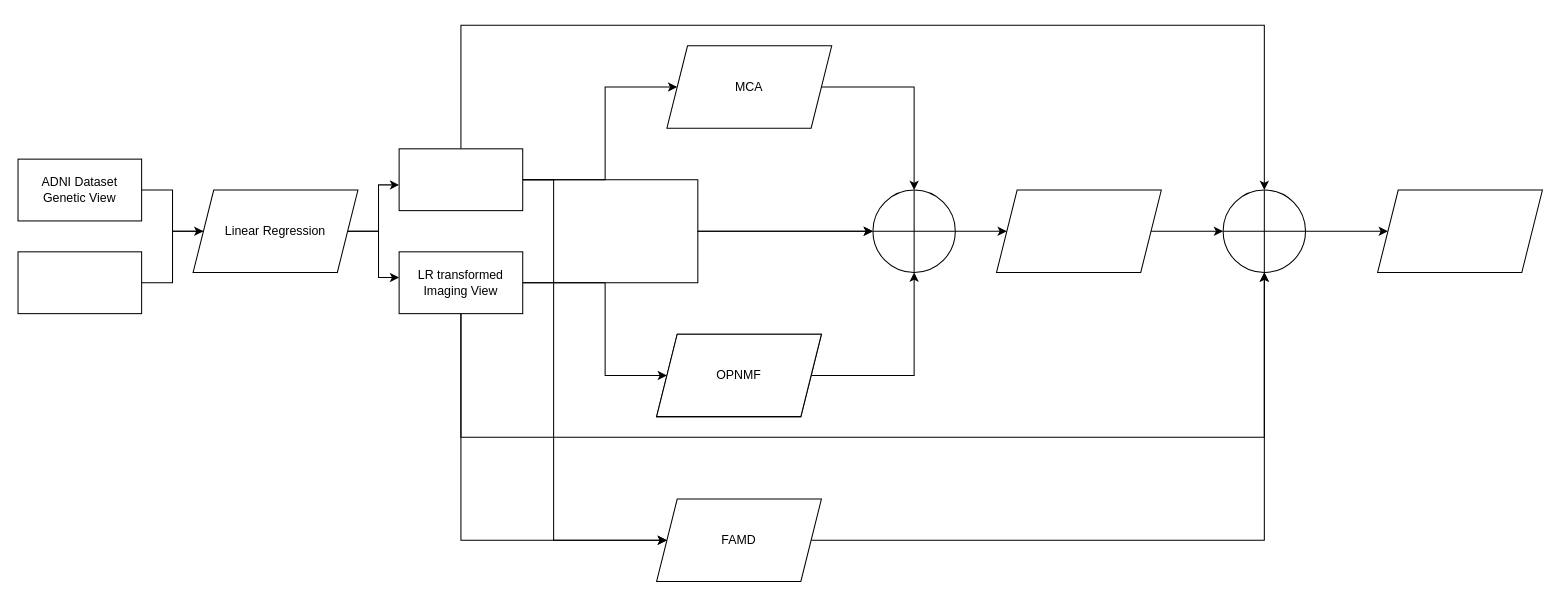
The diagram is 1560 pixels wide and 599 high, and some of its shapes have lost their labels. Each missing label, with the box of its shape:
ADNI Dataset Imaging View: (17, 251, 142, 314)
DCCA: (995, 189, 1161, 272)
LR transformed Genetic View: (398, 148, 523, 211)
SVM Classification: (1377, 189, 1542, 272)
